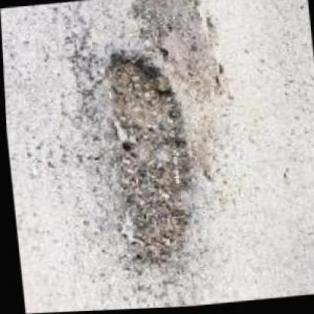Hueco: (98, 46, 205, 270)
